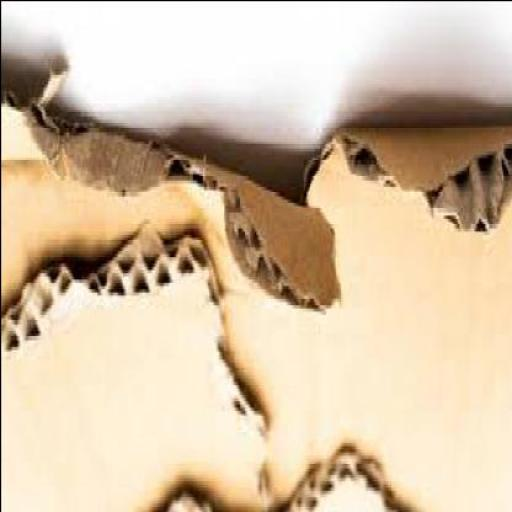cardboard: (0, 58, 338, 511), (296, 122, 510, 511), (0, 230, 268, 510), (155, 448, 412, 511)
